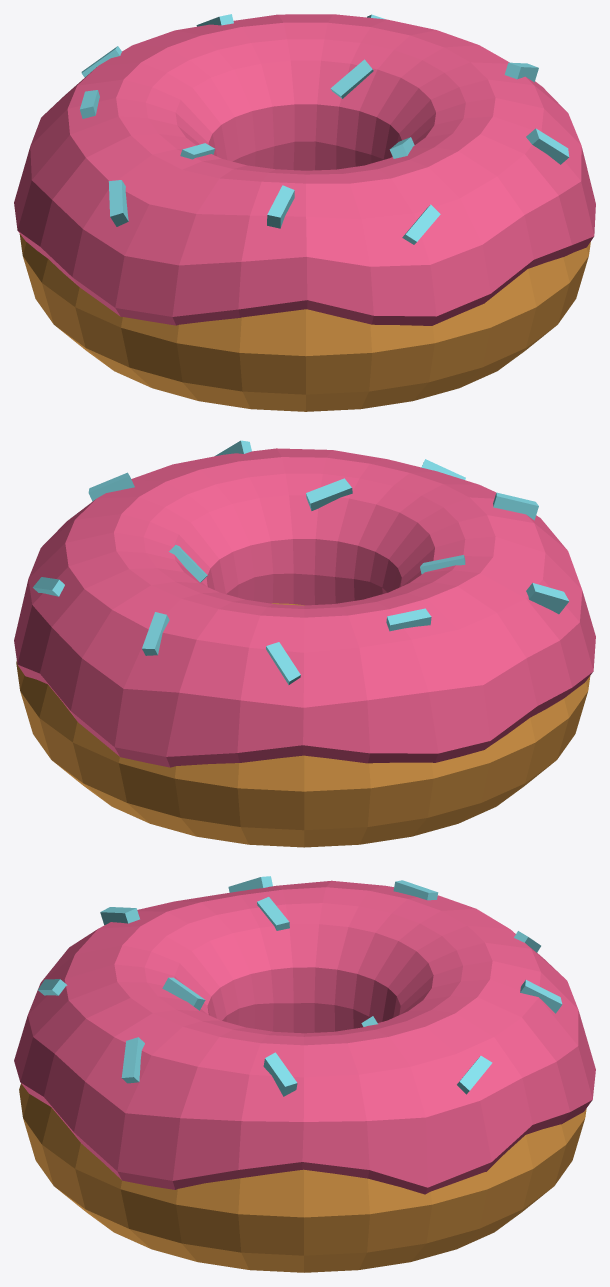
Rendered from Donut.FBX.
3 renders of one model, top to bottom at view 1: azimuth 30°, elevation 25°; view 2: azimuth 150°, elevation 25°; view 3: azimuth 270°, elevation 25°, orthographic.
Visible parts, largest first — view 1: Donut_Torus_001; view 2: Donut_Torus_001; view 3: Donut_Torus_001.
Boxes of the visible parts, box(x1,y1,x2,y2) form: Donut_Torus_001: box(14, 14, 595, 411); Donut_Torus_001: box(14, 440, 595, 847); Donut_Torus_001: box(14, 876, 595, 1272).
Size of the model in its own units: 9.85 by 4.25 by 10.01.
